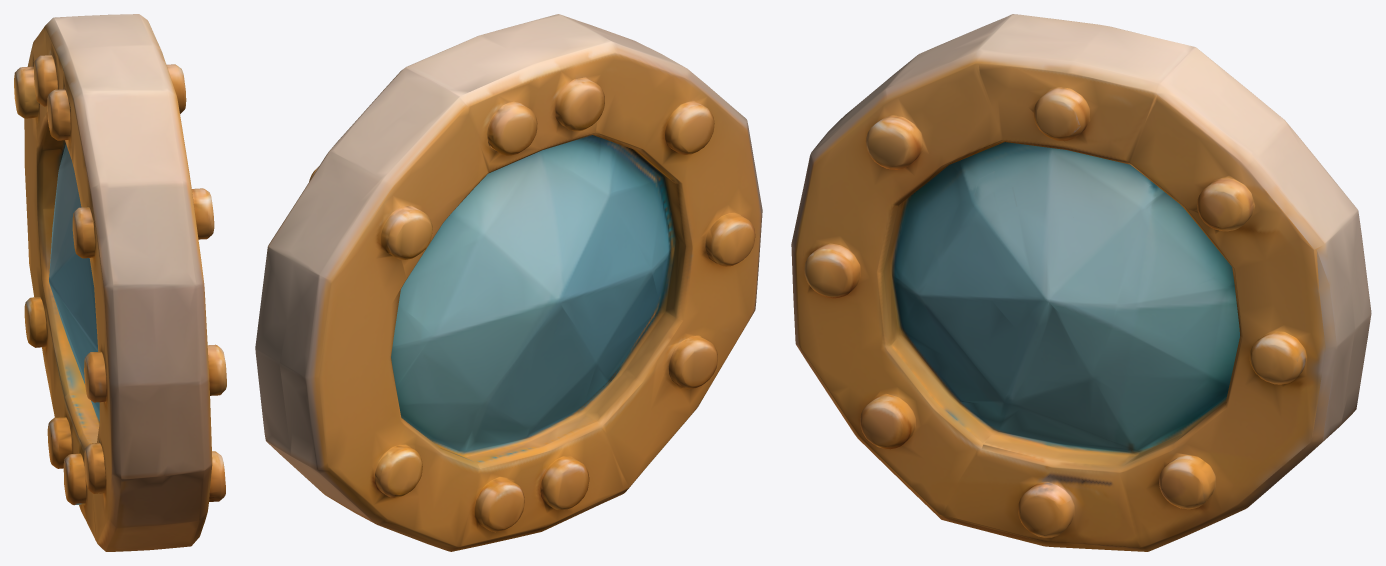
Rendered from porthole.fbx.
The picture shows the model from 3 angles, left to right: view 1: azimuth 30°, elevation 25°; view 2: azimuth 150°, elevation 25°; view 3: azimuth 270°, elevation 25°; orthographic projection. The views are drawn at different scales.
Parts seen in each view (by area): view 1: porthole; view 2: porthole; view 3: porthole.
Boxes of the visible parts, <box> form: porthole: <box>14,14,226,551</box>; porthole: <box>255,14,762,551</box>; porthole: <box>791,14,1371,551</box>.
Bounding box in the file's own units: 22 × 36.72 × 39.89.
1 material, 1 textured.
